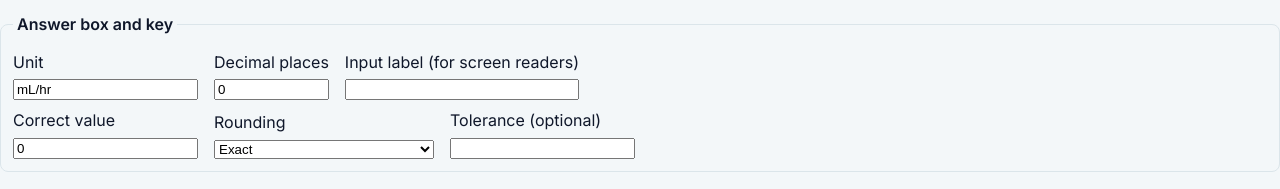
Scenario: ItemForm › calculation: a tolerance replaces rounding
Type "0.5" into the number field labelled "Tolerance (optional)" at (542, 148), box [450,138,635,159]
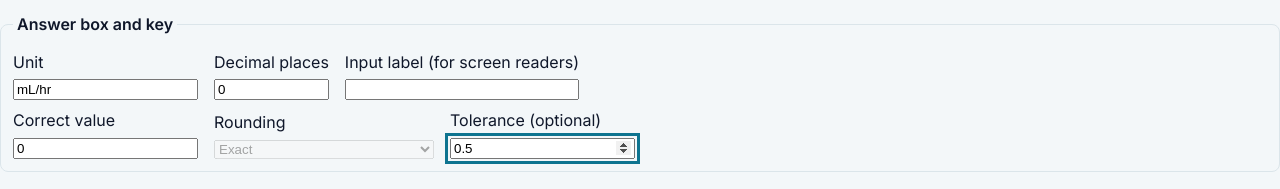
Expected: the dropdown labelled "Rounding" is disabled, [214,140,434,159]
